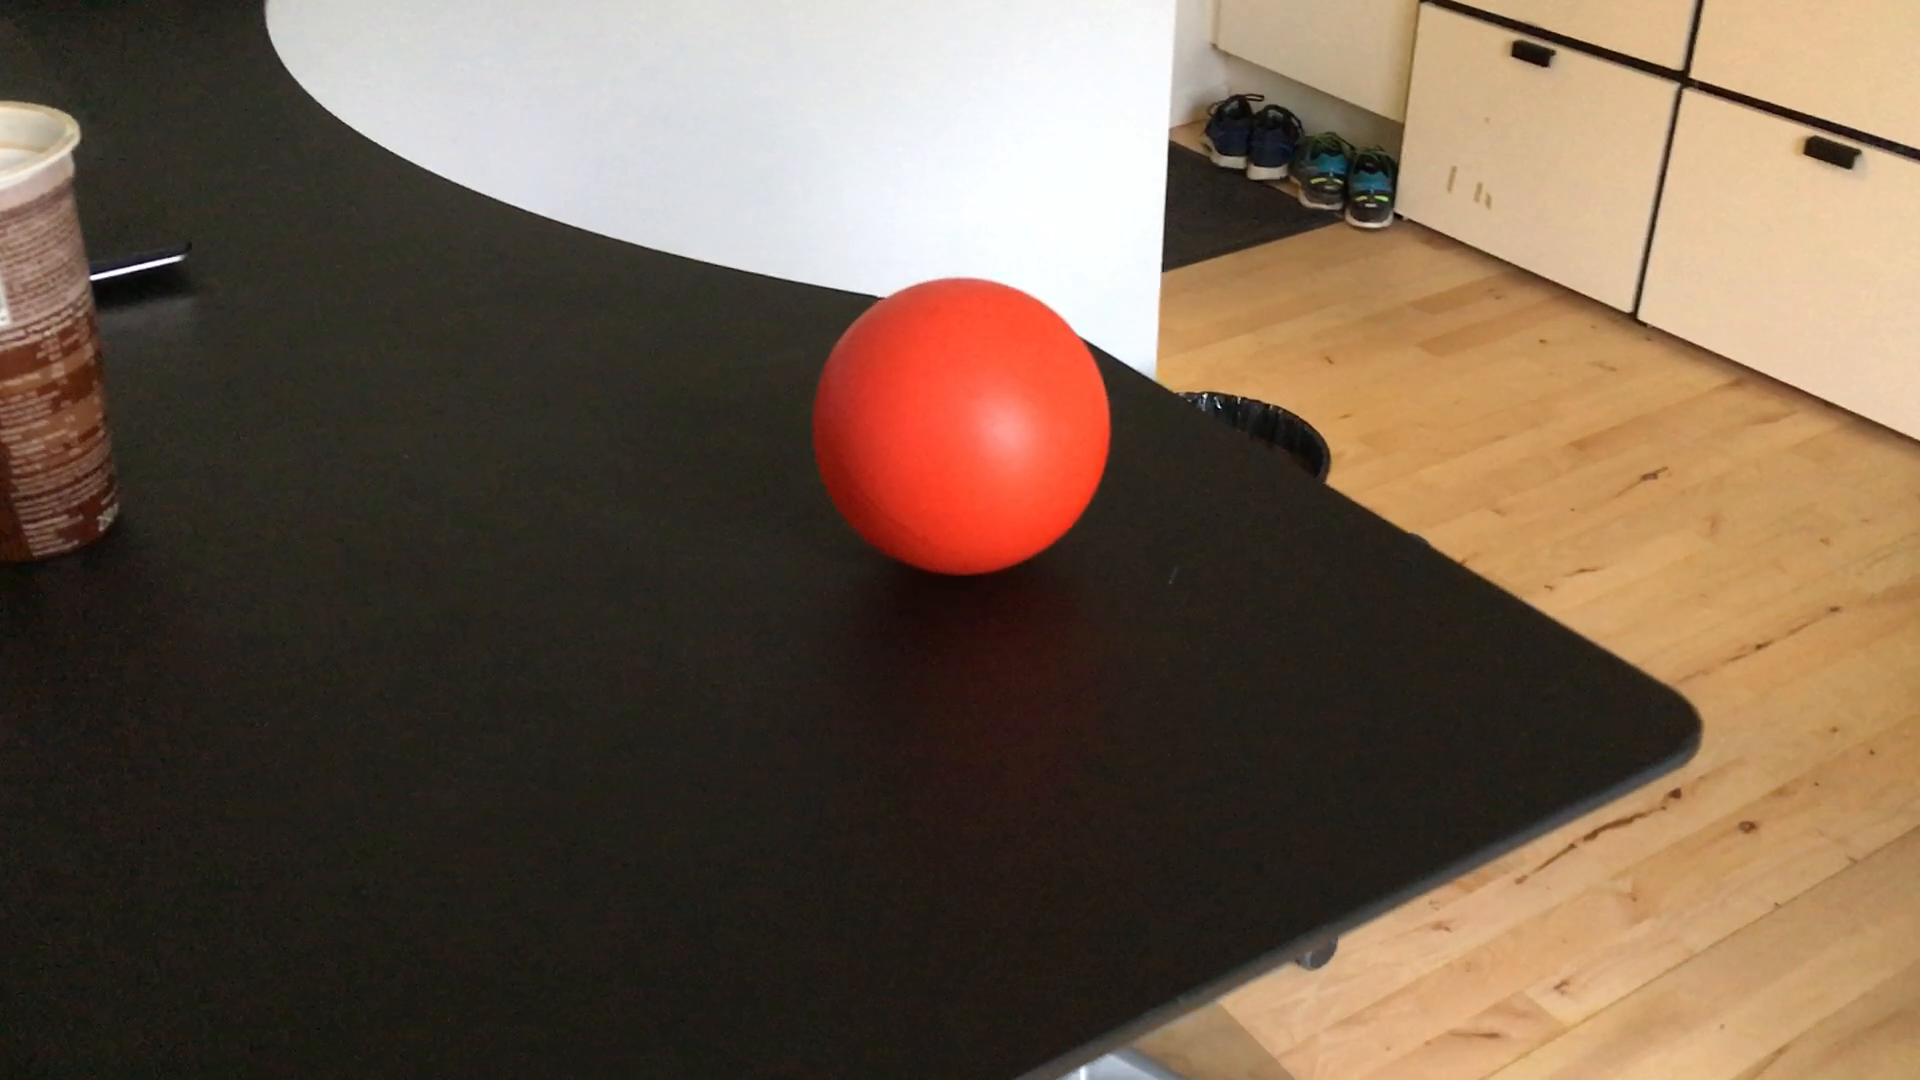Ball: (811, 272, 1117, 571)
